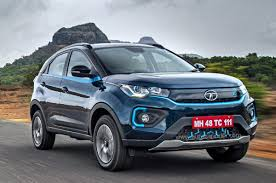Tata Nexon: (28, 41, 257, 173)
